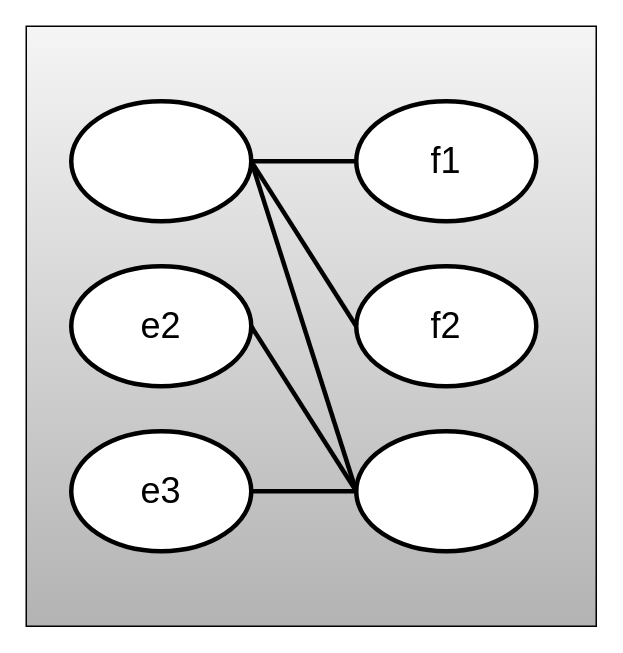
This 623x653 diagram has some shape labels left out. The box of each missing label's shape, as (x1, y1, x2, y2) in pixels:
e1: (68, 98, 253, 223)
f3: (353, 428, 538, 553)
